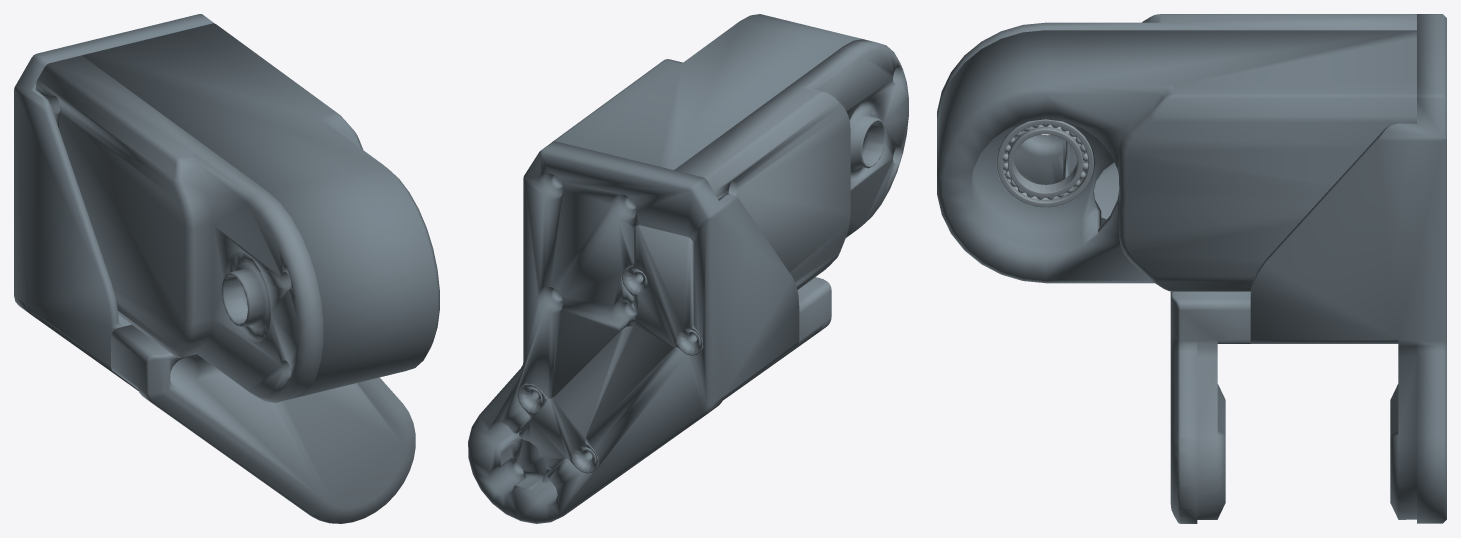
The picture shows the model from 3 angles, left to right: view 1: azimuth 30°, elevation 25°; view 2: azimuth 150°, elevation 25°; view 3: azimuth 270°, elevation 25°; orthographic projection. The views are drawn at different scales.
Parts seen in each view (by area): view 1: cover_0, shell_0; view 2: shell_0, cover_0; view 3: shell_0, cover_0, joint_0, joint_1.
Part boxes in pixels (<box>): cover_0: <box>36,55,415,523</box>; shell_0: <box>14,14,439,398</box>; shell_0: <box>468,14,862,523</box>; cover_0: <box>517,39,908,473</box>; shell_0: <box>937,14,1446,523</box>; cover_0: <box>937,14,1416,523</box>; joint_0: <box>1002,124,1088,199</box>; joint_1: <box>997,119,1093,207</box>.
Size of the model in its own units: 0.0382 by 0.0565 by 0.0631.
